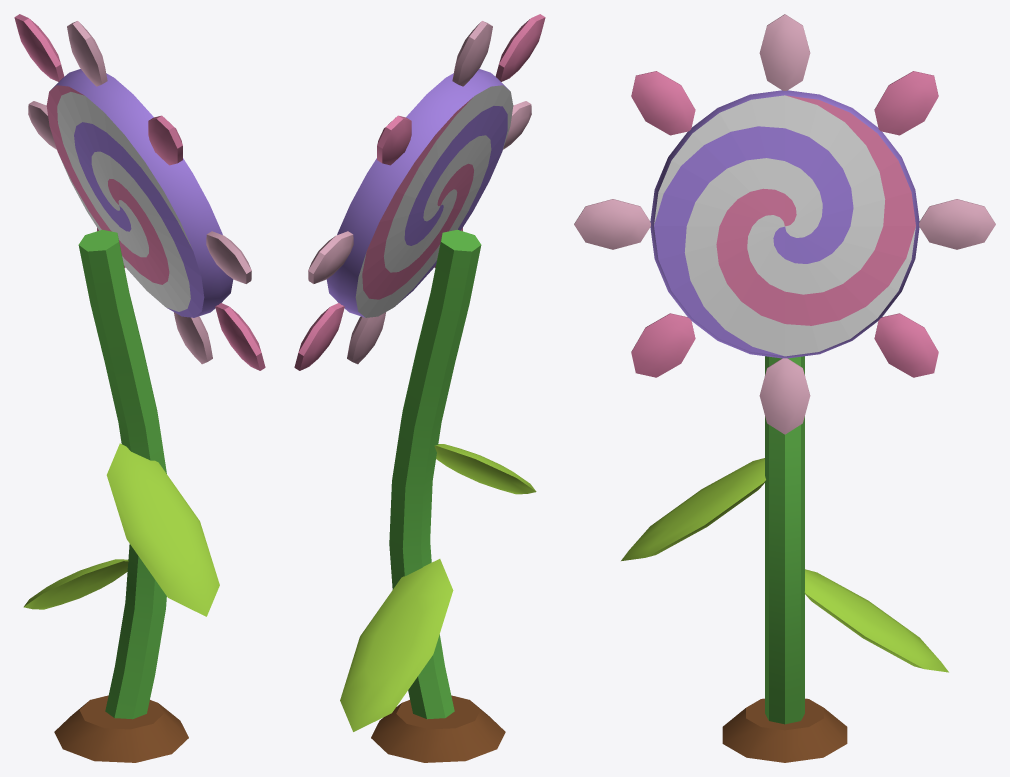
Rendered from swirl_flower.glb.
3 renders of one model, left to right at view 1: azimuth 30°, elevation 25°; view 2: azimuth 150°, elevation 25°; view 3: azimuth 270°, elevation 25°, orthographic. The views are drawn at different scales.
Visible parts, largest first — view 1: swirl_flower; view 2: swirl_flower; view 3: swirl_flower.
Boxes of the visible parts, x1=… form: swirl_flower: x1=14, y1=14, x2=265, y2=762; swirl_flower: x1=294, y1=14, x2=545, y2=762; swirl_flower: x1=574, y1=14, x2=995, y2=762.
Bounding box in the file's own units: 0.3934 × 1.9 × 1.03.
